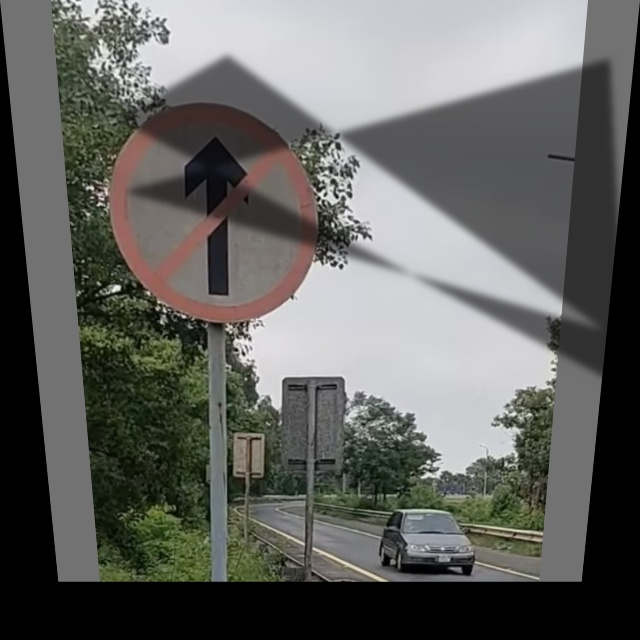No_Entry: (107, 105, 319, 323)
